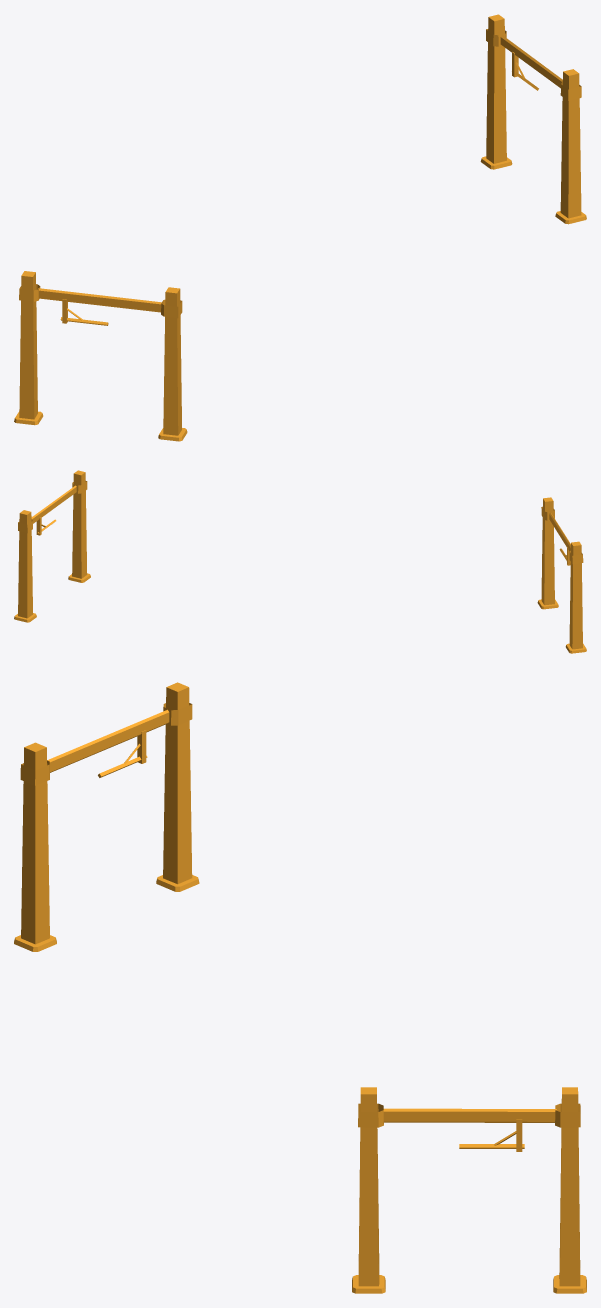
The model's file is SM_Train_Wiring_Turn_Collider.fbx.
3 renders of one model, top to bottom at view 1: azimuth 30°, elevation 25°; view 2: azimuth 150°, elevation 25°; view 3: azimuth 270°, elevation 25°, orthographic. The views are drawn at different scales.
Visible parts, largest first — view 1: SM_Train_Wiring_Turn_Collider; view 2: SM_Train_Wiring_Turn_Collider; view 3: SM_Train_Wiring_Turn_Collider.
Part boxes in pixels (x1,y1,x2,y2): SM_Train_Wiring_Turn_Collider: [14, 14, 586, 441]; SM_Train_Wiring_Turn_Collider: [14, 470, 586, 653]; SM_Train_Wiring_Turn_Collider: [14, 682, 586, 1293].
Size of the model in its own units: 39.49 by 8.58 by 22.78.
